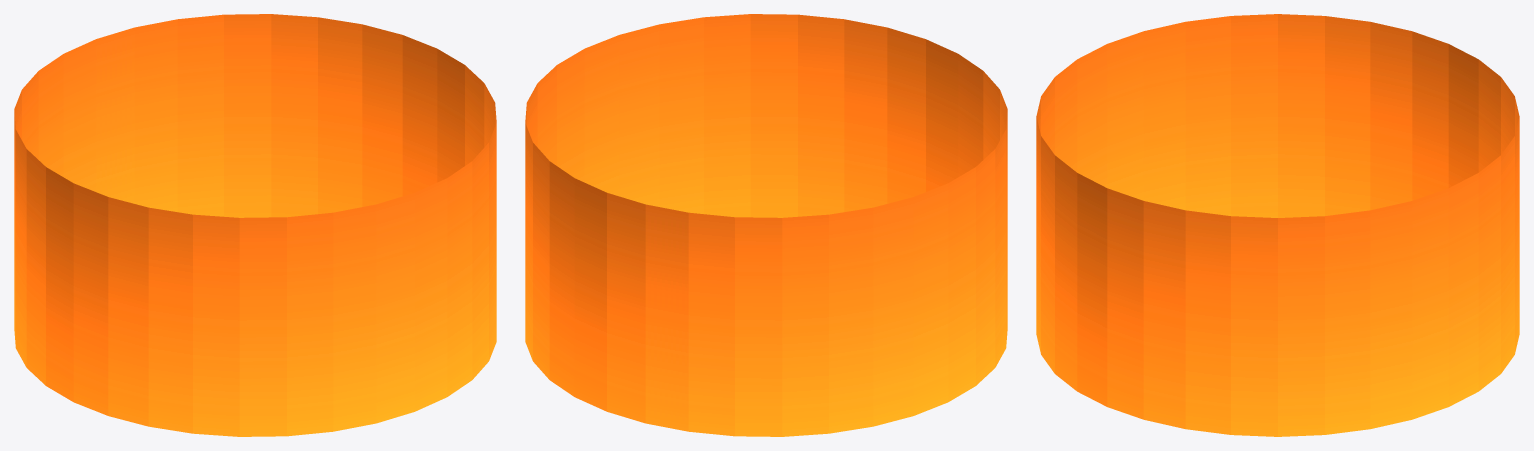
Rendered from lb_beam_1.glb.
3 renders of one model, left to right at view 1: azimuth 30°, elevation 25°; view 2: azimuth 150°, elevation 25°; view 3: azimuth 270°, elevation 25°, orthographic.
Visible parts, largest first — view 1: lb_beam_1; view 2: lb_beam_1; view 3: lb_beam_1.
Boxes of the visible parts, box(x1,y1,x2,y2) form: lb_beam_1: box(14, 14, 496, 436); lb_beam_1: box(525, 14, 1007, 436); lb_beam_1: box(1036, 14, 1519, 436).
Size of the model in its own units: 2 by 1 by 2.
Materials: 1 (1 with a texture image).
